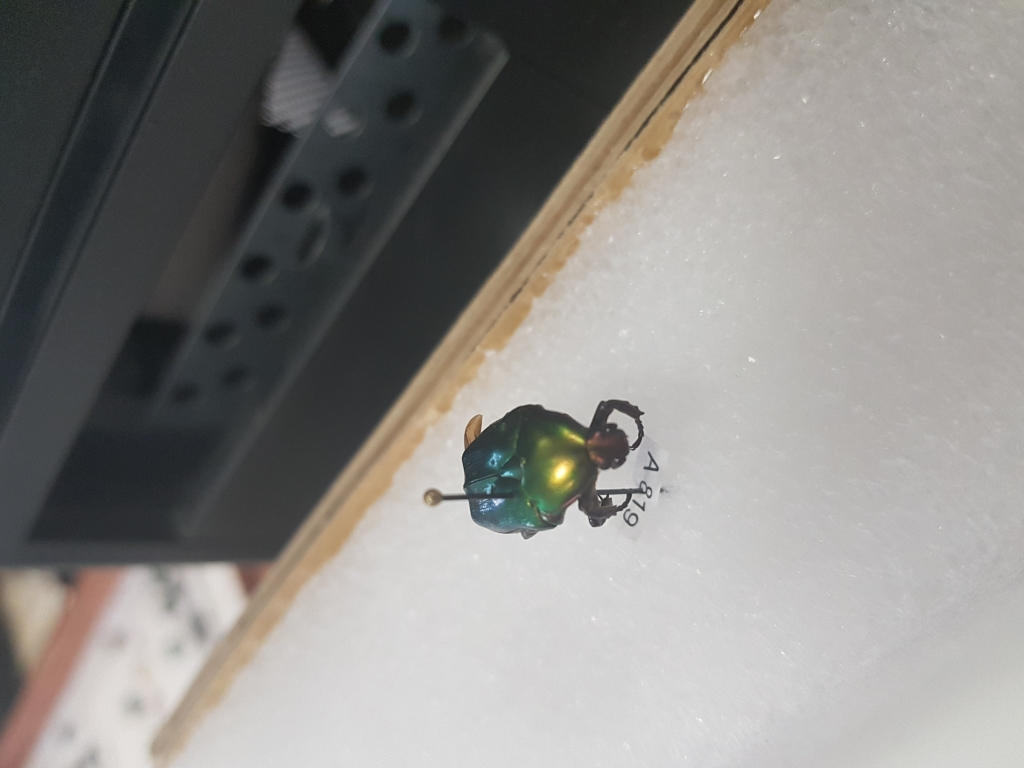Protaetia_cuprea_ignicollis: (461, 393, 648, 539)
